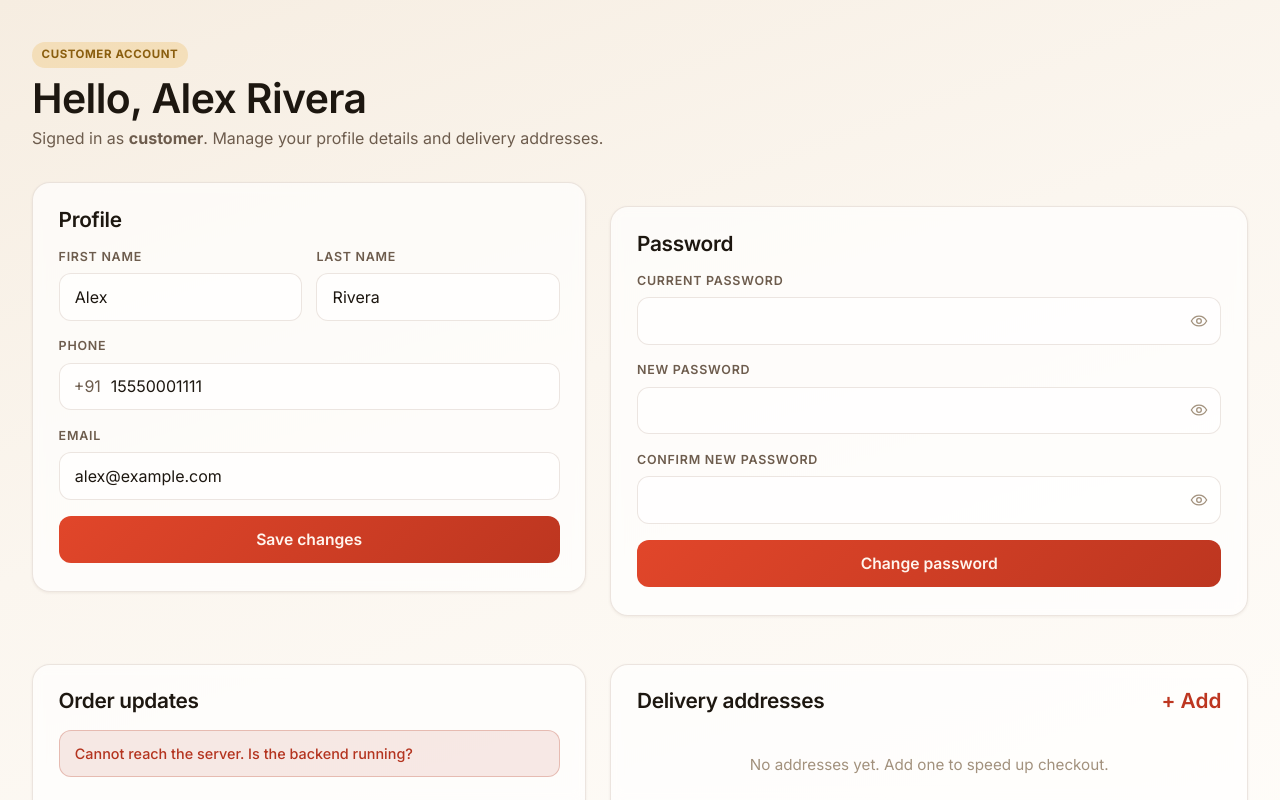
Test: AccountPage profile form input filtering › strips digits typed into the first name
Replace the text in the field labelled "First name" with "Alex1". click: (180, 297)
box: left=59, top=273, right=302, bottom=321
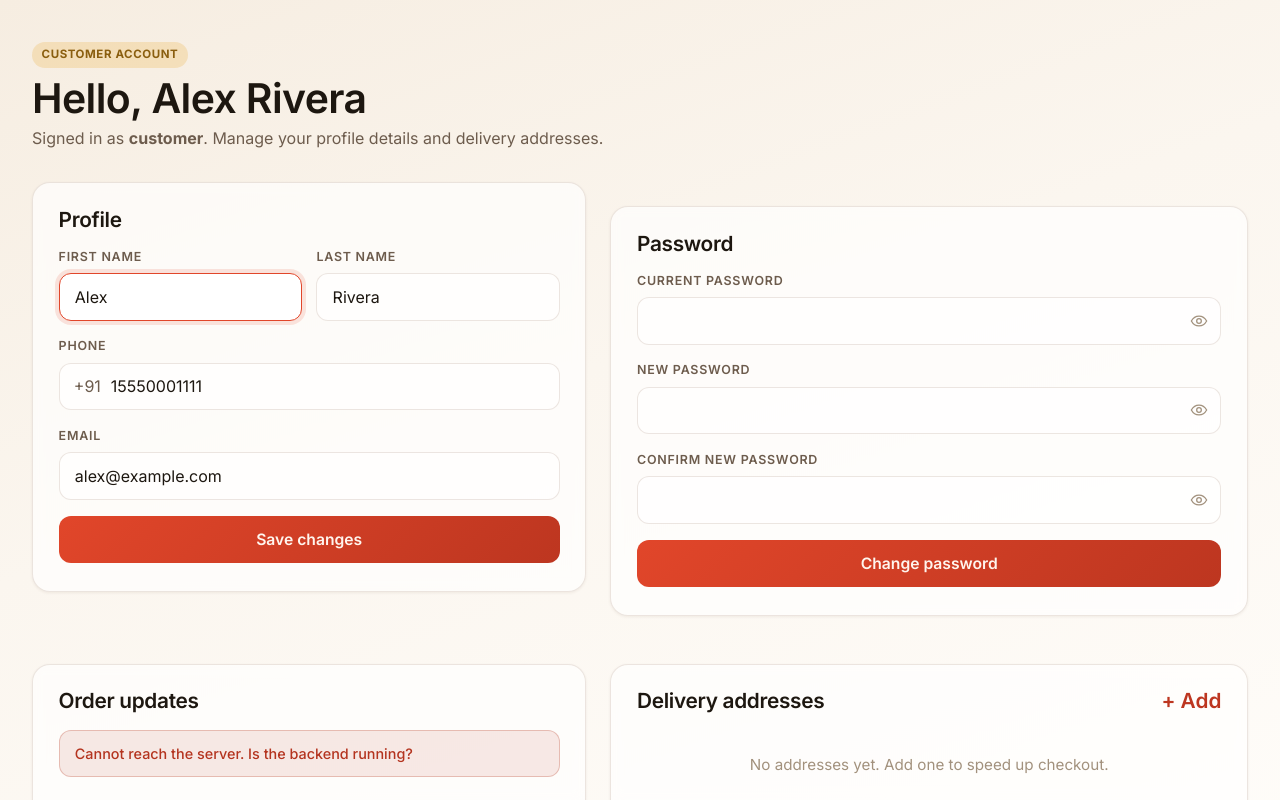
Expected: the field labelled "First name" holds "Alex", left=59, top=273, right=302, bottom=321
